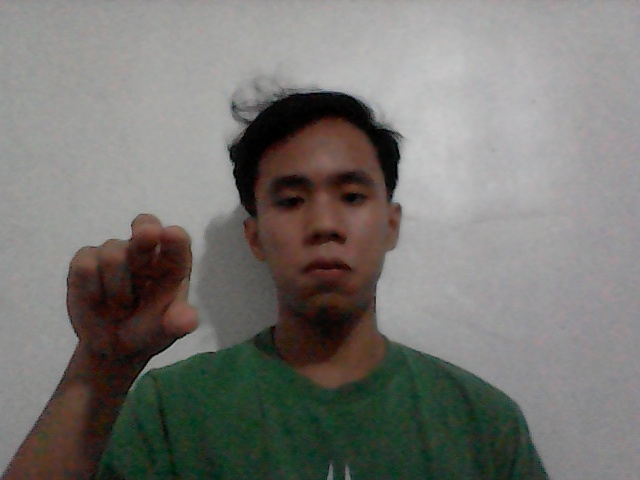No: (43, 197, 235, 378)
